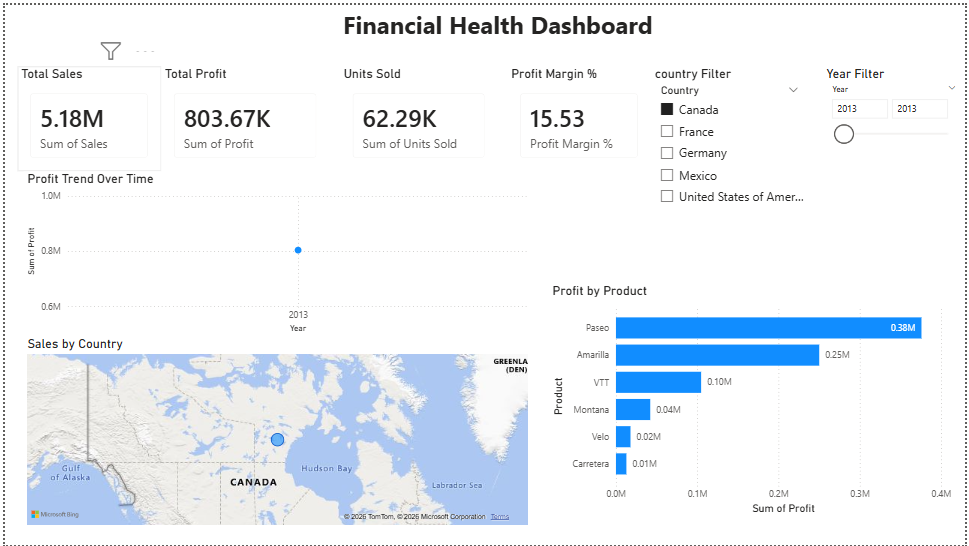

The page's visual inventory and layout, read from the dashboard file:
{"tool":"powerbi","page":{"name":"Executive Dashboard","canvas":[1280,720],"ordinal":0},"visuals":[{"type":"cardVisual","title":"Total Sales","fields":{"Data":["Sum(financials. Sales)"]},"box":[17.1,81.4,191.4,140],"z":0},{"type":"cardVisual","title":"Total Profit","fields":{"Data":["Sum(financials.Profit)"]},"box":[208.6,81.4,224.3,140],"z":1000},{"type":"cardVisual","title":"Units Sold","fields":{"Data":["Sum(financials.Units Sold)"]},"box":[447.1,81.4,210,140],"z":2000},{"type":"lineChart","title":"Profit Trend Over Time","fields":{"Category":["financials.Date.Variation.Date Hierarchy.Year","financials.Date.Variation.Date Hierarchy.Quarter","financials.Date.Variation.Date Hierarchy.Month","financials.Date.Variation.Date Hierarchy.Day"],"Y":["Sum(financials.Profit)"]},"box":[24.3,221.4,677.1,220],"z":3000},{"type":"map","title":"Sales by Country","fields":{"Category":["financials.Country"],"Size":["Sum(financials. Sales)"]},"box":[24.3,441.4,677.1,257.1],"z":4000},{"type":"clusteredBarChart","title":"Profit by Product","fields":{"Category":["financials.Product"],"Y":["Sum(financials.Profit)"]},"box":[724,256,556,314],"z":5000},{"type":"slicer","title":"country Filter","fields":{"Values":["financials.Country"]},"box":[862,54,208,194],"z":6000},{"type":"slicer","title":"Year Filter","fields":{"Values":["financials.Year"]},"box":[1090,81.4,190,140],"z":7000},{"type":"cardVisual","title":"Profit Margin %","fields":{"Data":["financials.Profit Margin %"]},"box":[670,81.4,191.4,140],"z":8000},{"type":"textbox","box":[160,0,994.3,61.4],"z":10000},{"type":"textbox","box":[724,570,556,150],"z":10001}]}

Visuals, with their boxes in screenshot pixels (x1, y1, x2, y2), scaled from the page's 1280x720 canvas onto the 969x546 screenshot:
"Total Sales" cardVisual: <bbox>13, 62, 158, 168</bbox>
"Total Profit" cardVisual: <bbox>158, 62, 328, 168</bbox>
"Units Sold" cardVisual: <bbox>338, 62, 497, 168</bbox>
"Profit Trend Over Time" lineChart: <bbox>18, 168, 531, 335</bbox>
"Sales by Country" map: <bbox>18, 335, 531, 530</bbox>
"Profit by Product" clusteredBarChart: <bbox>548, 194, 968, 432</bbox>
"country Filter" slicer: <bbox>653, 41, 810, 188</bbox>
"Year Filter" slicer: <bbox>825, 62, 968, 168</bbox>
"Profit Margin %" cardVisual: <bbox>507, 62, 652, 168</bbox>
textbox: <bbox>121, 0, 874, 47</bbox>
textbox: <bbox>548, 432, 968, 545</bbox>
